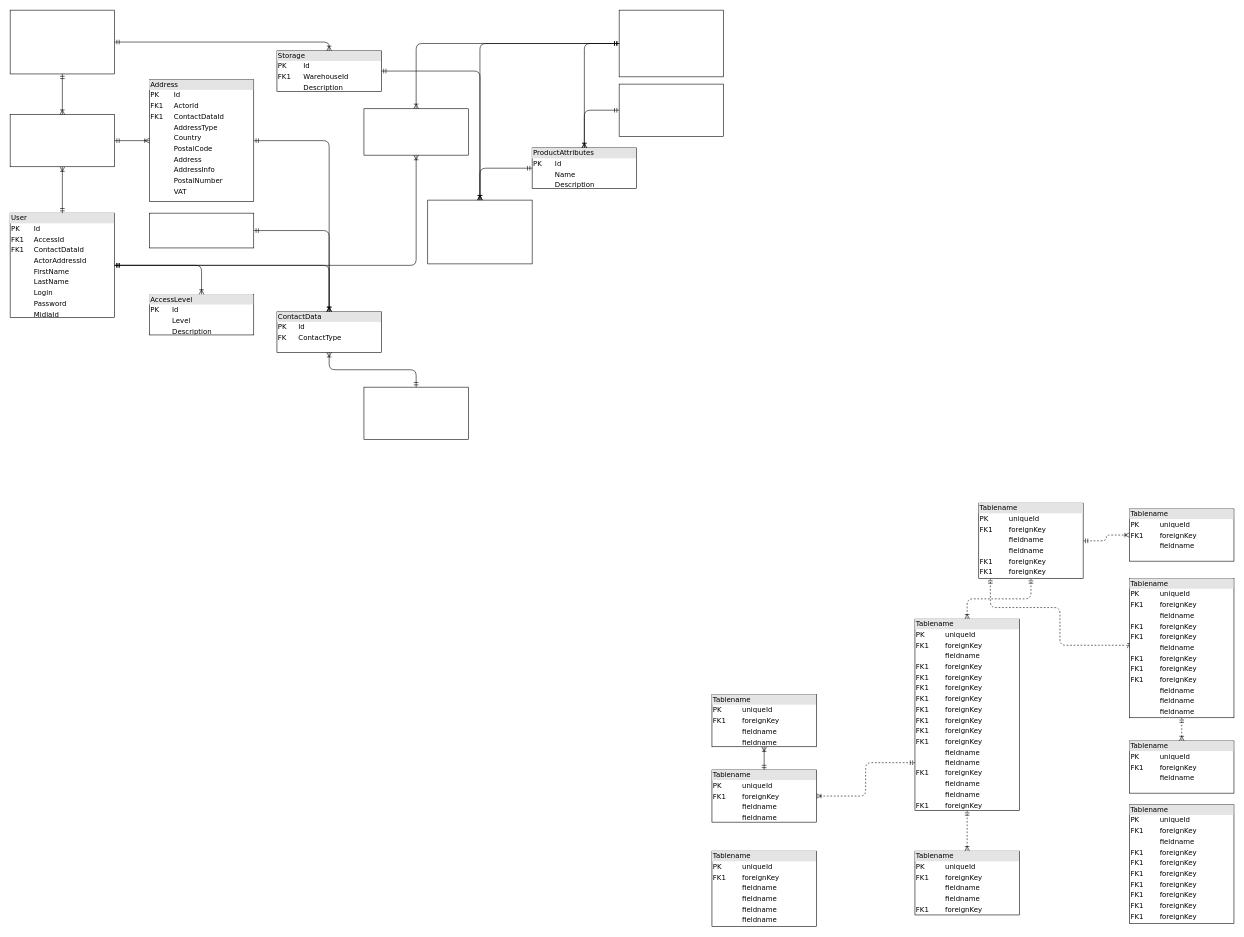
Image size: 1244x937. Some labels were removed from this diagram. The box of each missing label's shape, as (x1, y1, x2, y2) in pixels:
ActorAddress PK Id ActorId(guid): (10, 114, 115, 167)
Attribute PK Id FK1 ProductAttributeId Description: (619, 84, 724, 136)
Data PK Id FK1 ContactDataId Info: (363, 387, 468, 439)
Midia PK Id Path File: (363, 108, 468, 155)
Product PK Id FK1 ProductAttributesId Name Description MidiaId: (619, 10, 724, 77)
StorageItem PK Id FK1 StorageId ProductId ProductAttributeId Quantity: (427, 200, 532, 264)
Type PK Id Name: (149, 213, 254, 248)
Warehouse PK Id FK1 ActorAddressId Name: (10, 10, 115, 74)
